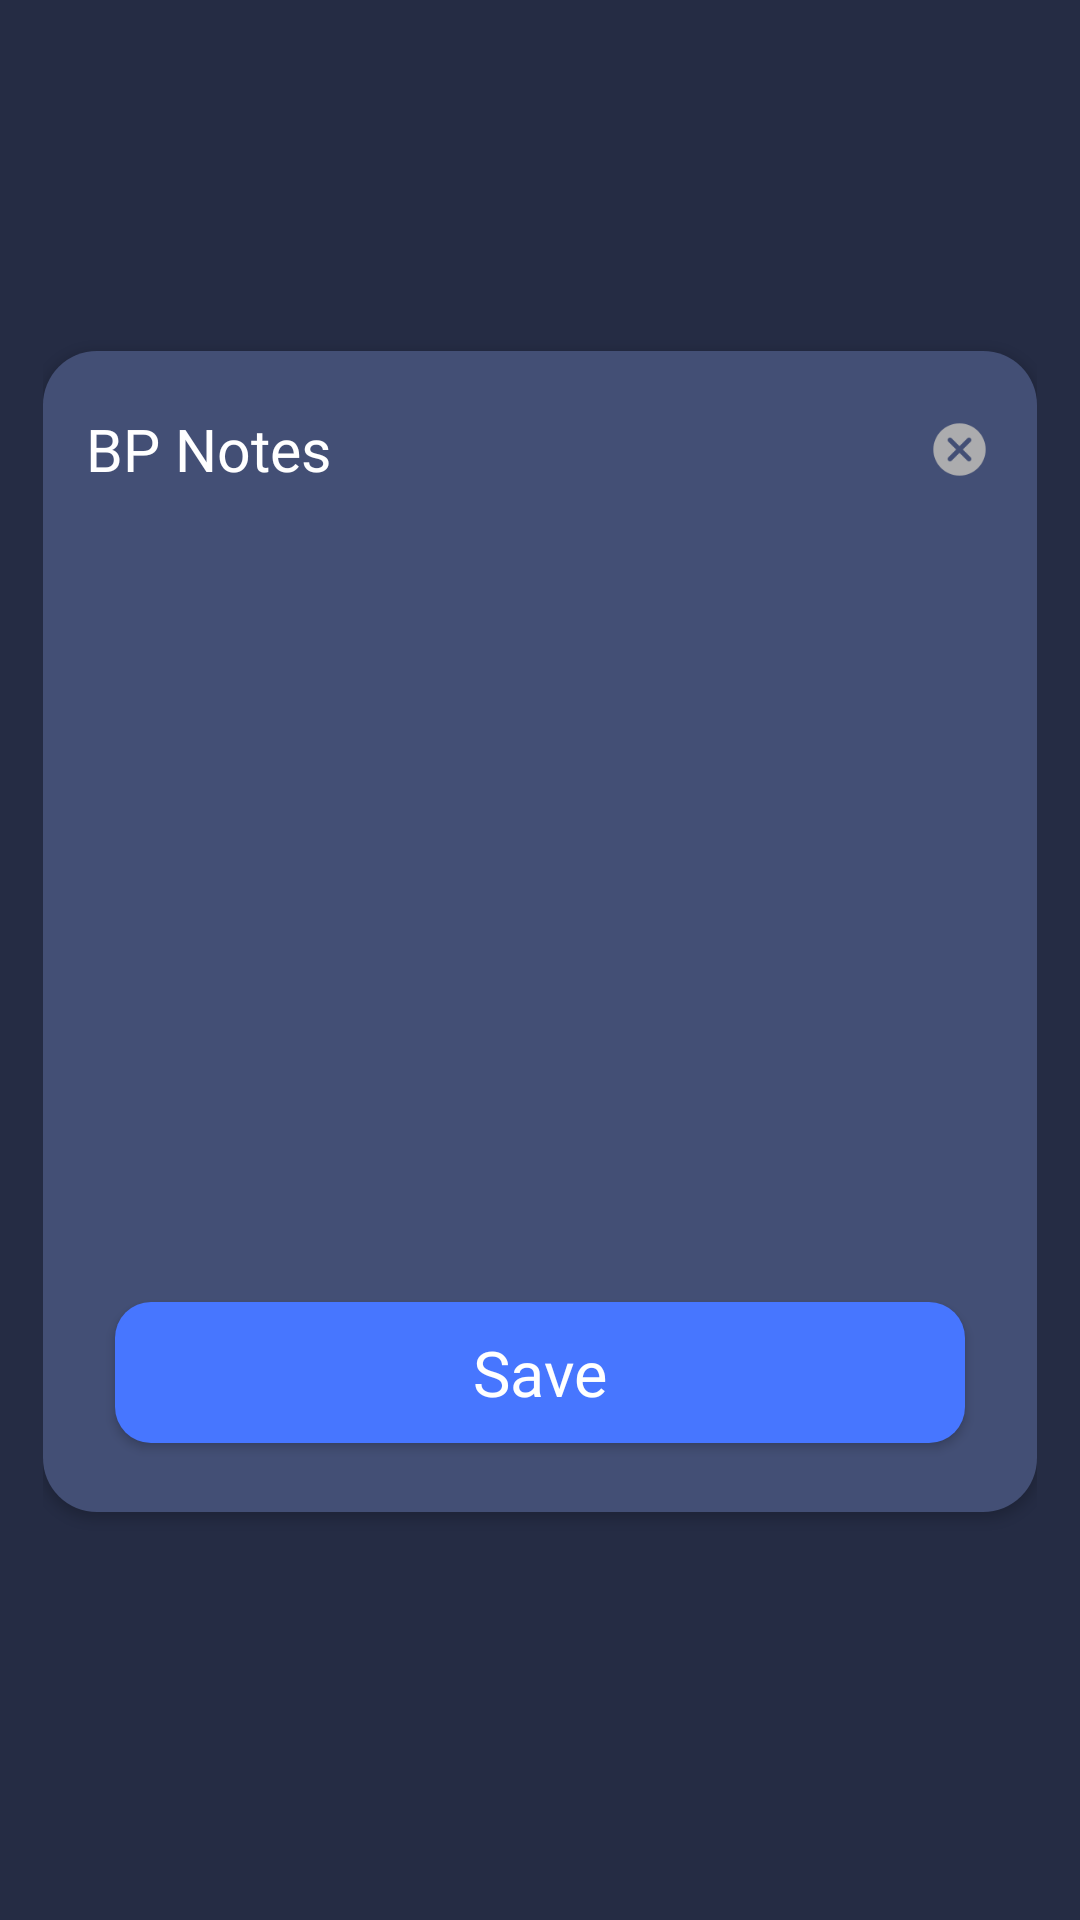

Screen size 1080 x 1920. Icon name, then its box in pixels as (x1, y1, x2, y2):
note close: (933, 423, 986, 476)
